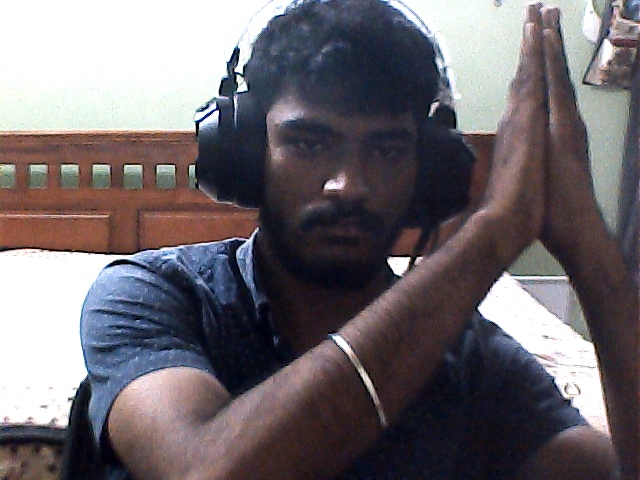Sign: (489, 3, 611, 277)
